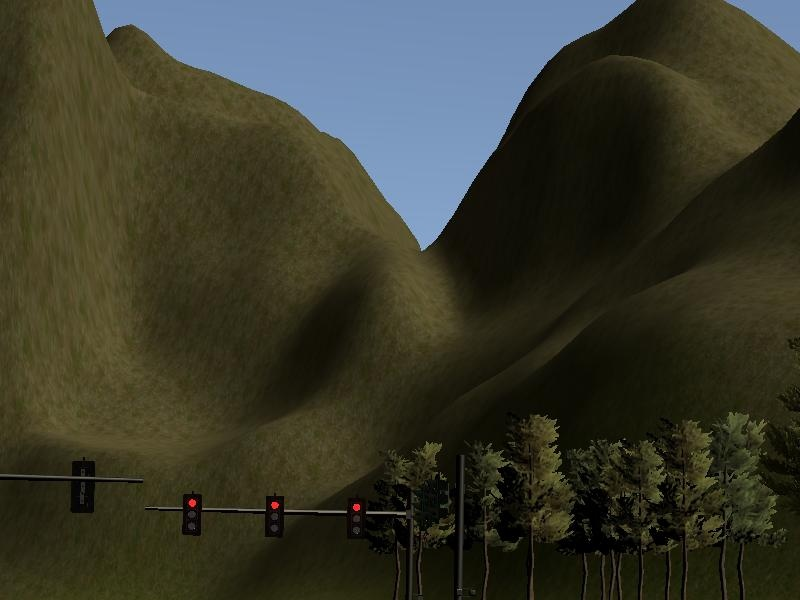red: (183, 492, 202, 537), (347, 497, 366, 542), (265, 494, 284, 539)
